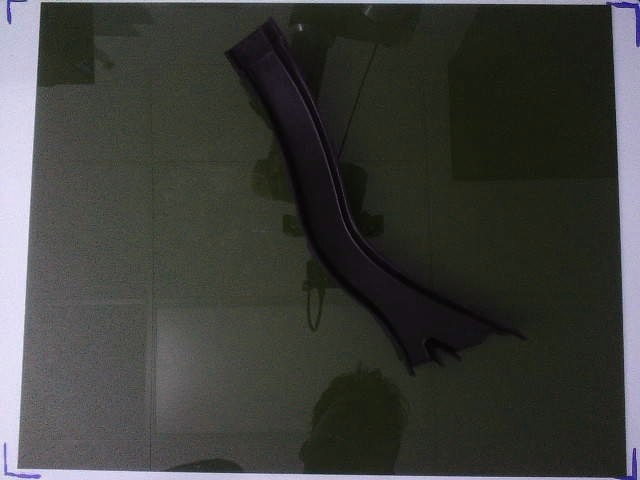887_B-Under: (225, 17, 527, 376)
